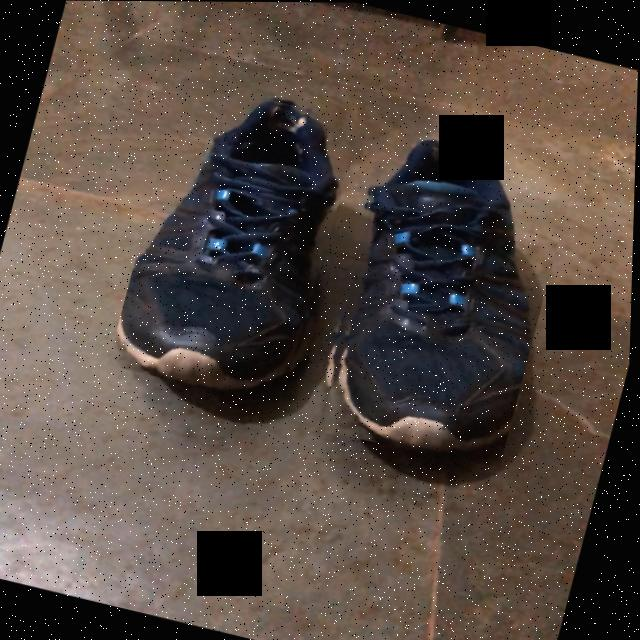shoe: (118, 100, 340, 392), (338, 139, 536, 456)
